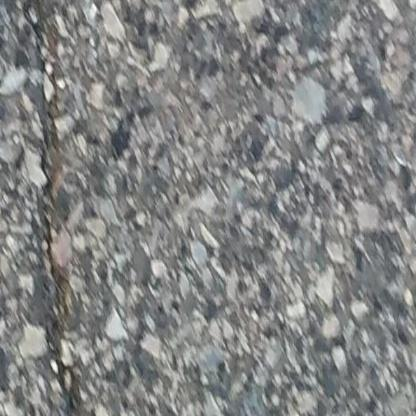Cracks: (22, 0, 94, 416)
